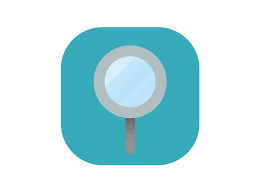searchIcon: (91, 43, 168, 155)
